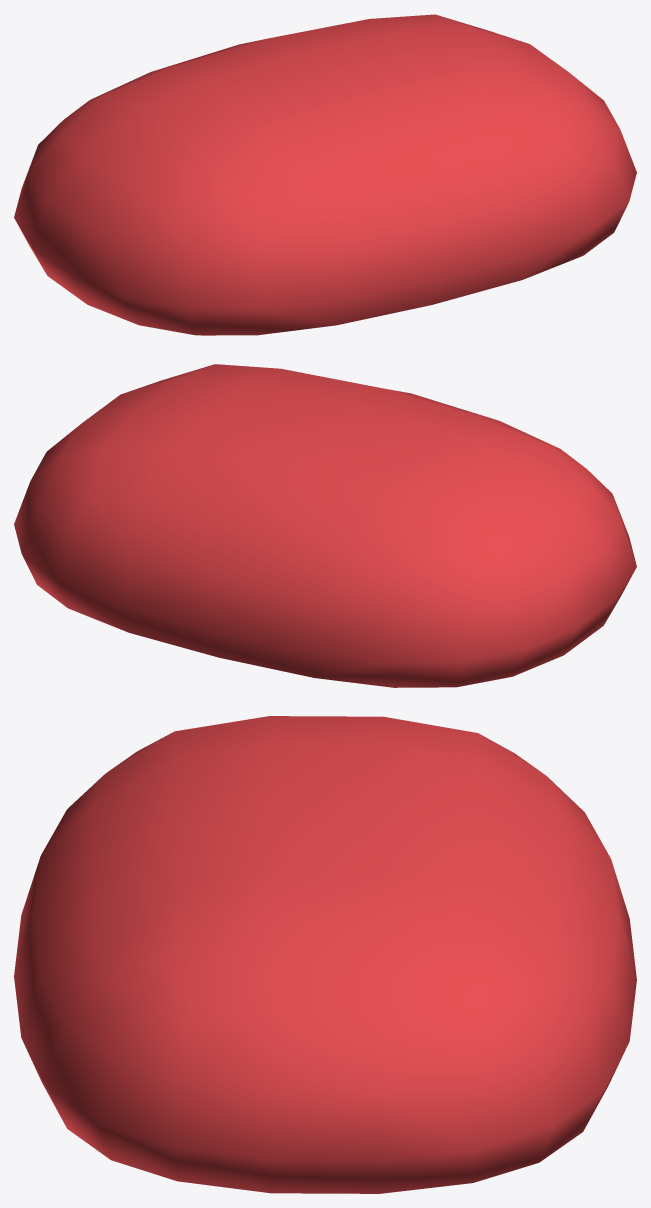
File: almofada_natal_vermelha_pacote.glb
3 renders of one model, top to bottom at view 1: azimuth 30°, elevation 25°; view 2: azimuth 150°, elevation 25°; view 3: azimuth 270°, elevation 25°, orthographic. The views are drawn at different scales.
Parts seen in each view (by area): view 1: almofada_natal_vermelha_pacote; view 2: almofada_natal_vermelha_pacote; view 3: almofada_natal_vermelha_pacote.
Boxes of the visible parts, x1,y1,x2,y2 form: almofada_natal_vermelha_pacote: (14,14,636,335); almofada_natal_vermelha_pacote: (14,364,636,687); almofada_natal_vermelha_pacote: (14,716,636,1193).
Size of the model in its own units: 0.462 by 0.143 by 0.3356.
Materials: 1 (1 with a texture image).
